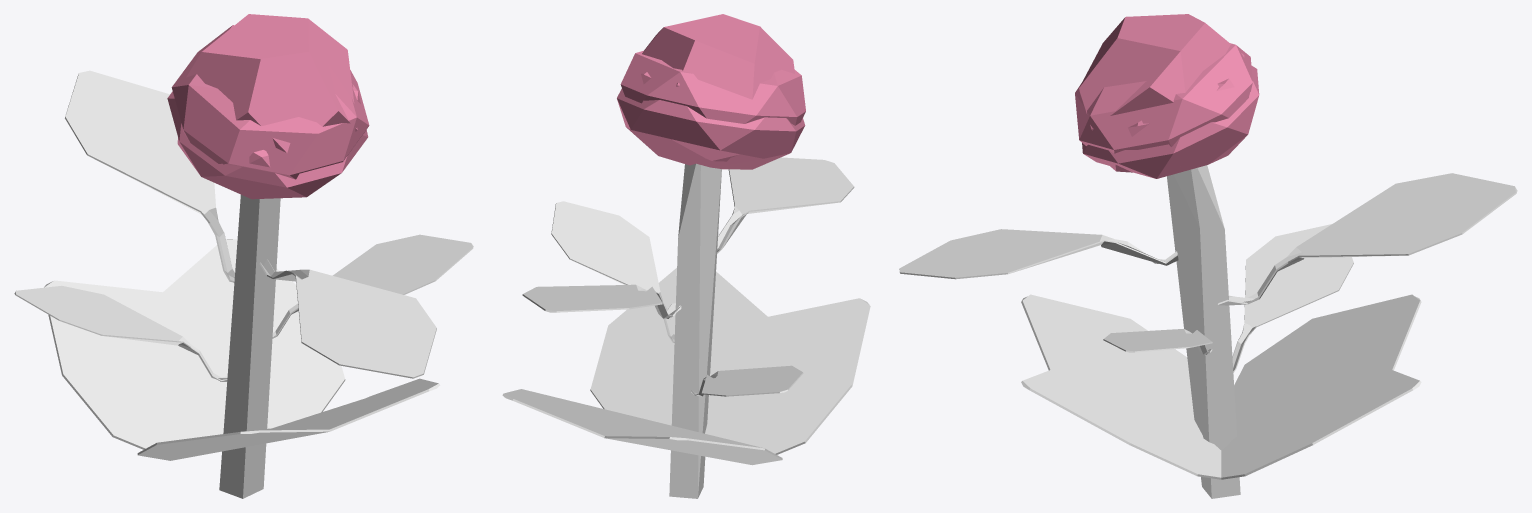
File: opt_Amaranth_grown.fbx
3 renders of one model, left to right at view 1: azimuth 30°, elevation 25°; view 2: azimuth 150°, elevation 25°; view 3: azimuth 270°, elevation 25°, orthographic. The views are drawn at different scales.
Parts seen in each view (by area): view 1: Stem; view 2: Stem; view 3: Stem.
Boxes of the visible parts, box(x1,y1,x2,y2) form: Stem: box(14, 14, 473, 498); Stem: box(502, 14, 870, 498); Stem: box(899, 14, 1517, 498).
Size of the model in its own units: 716 by 932 by 1116.
